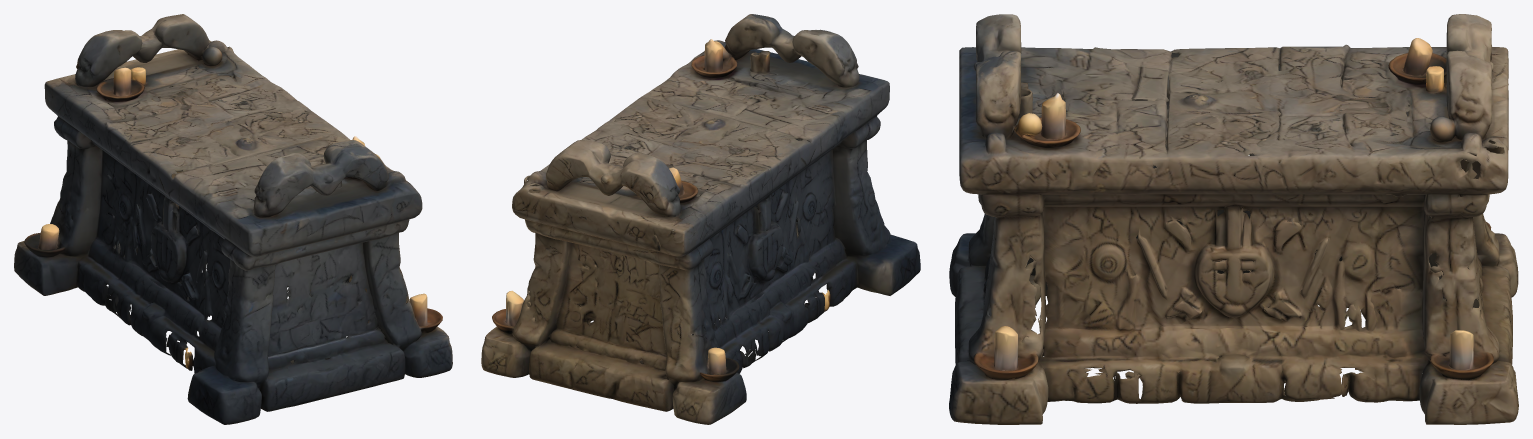
The model's file is prop-altar-stone.glb.
3 views of the same model, side by side, from view 1: azimuth 30°, elevation 25°; view 2: azimuth 150°, elevation 25°; view 3: azimuth 270°, elevation 25° (orthographic). The views are drawn at different scales.
Visible parts, largest first — view 1: tripo_node_0359e355-3dee-4951-b7f1-a3dde1acdec5; view 2: tripo_node_0359e355-3dee-4951-b7f1-a3dde1acdec5; view 3: tripo_node_0359e355-3dee-4951-b7f1-a3dde1acdec5.
Part boxes in pixels (x1=…): tripo_node_0359e355-3dee-4951-b7f1-a3dde1acdec5: x1=14, y1=14, x2=452, y2=424; tripo_node_0359e355-3dee-4951-b7f1-a3dde1acdec5: x1=481, y1=14, x2=920, y2=424; tripo_node_0359e355-3dee-4951-b7f1-a3dde1acdec5: x1=949, y1=14, x2=1518, y2=424.
Size of the model in its own units: 2.16 by 2 by 3.33.
1 material, 1 textured.
